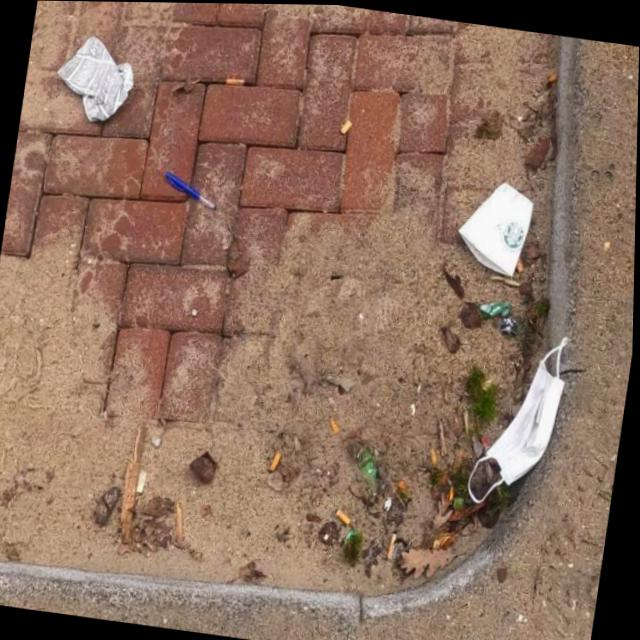Cup: (453, 169, 540, 286)
Mask: (467, 324, 574, 512)
Paper: (50, 30, 140, 128)
Plastic: (353, 443, 386, 496), (475, 295, 515, 321), (500, 312, 527, 339)
